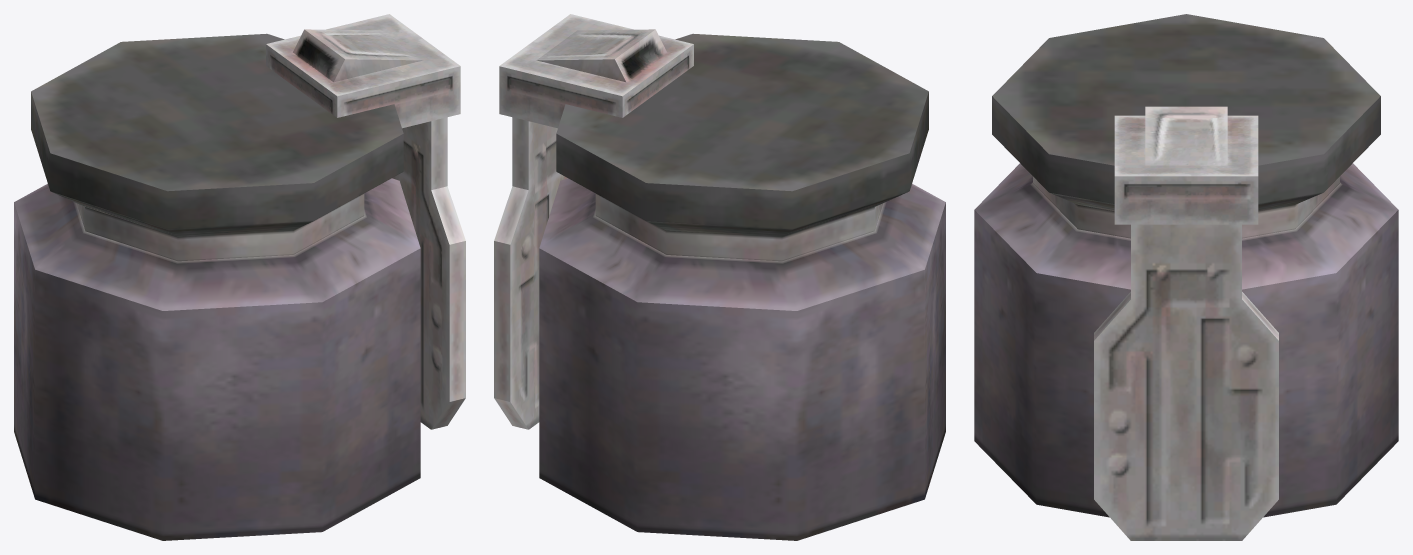
File: eqp_comp_nutrient_supplements_solid_pills.fbx
3 views of the same model, side by side, from view 1: azimuth 30°, elevation 25°; view 2: azimuth 150°, elevation 25°; view 3: azimuth 270°, elevation 25° (orthographic).
Parts seen in each view (by area): view 1: mesh_node; view 2: mesh_node; view 3: mesh_node.
Part boxes in pixels (x1,y1,x2,y2): mesh_node: (14, 14, 465, 540); mesh_node: (494, 14, 945, 540); mesh_node: (974, 14, 1398, 540).
Bounding box in the file's own units: 0.2804 × 0.2641 × 0.2621.
3 materials, 3 textured.
